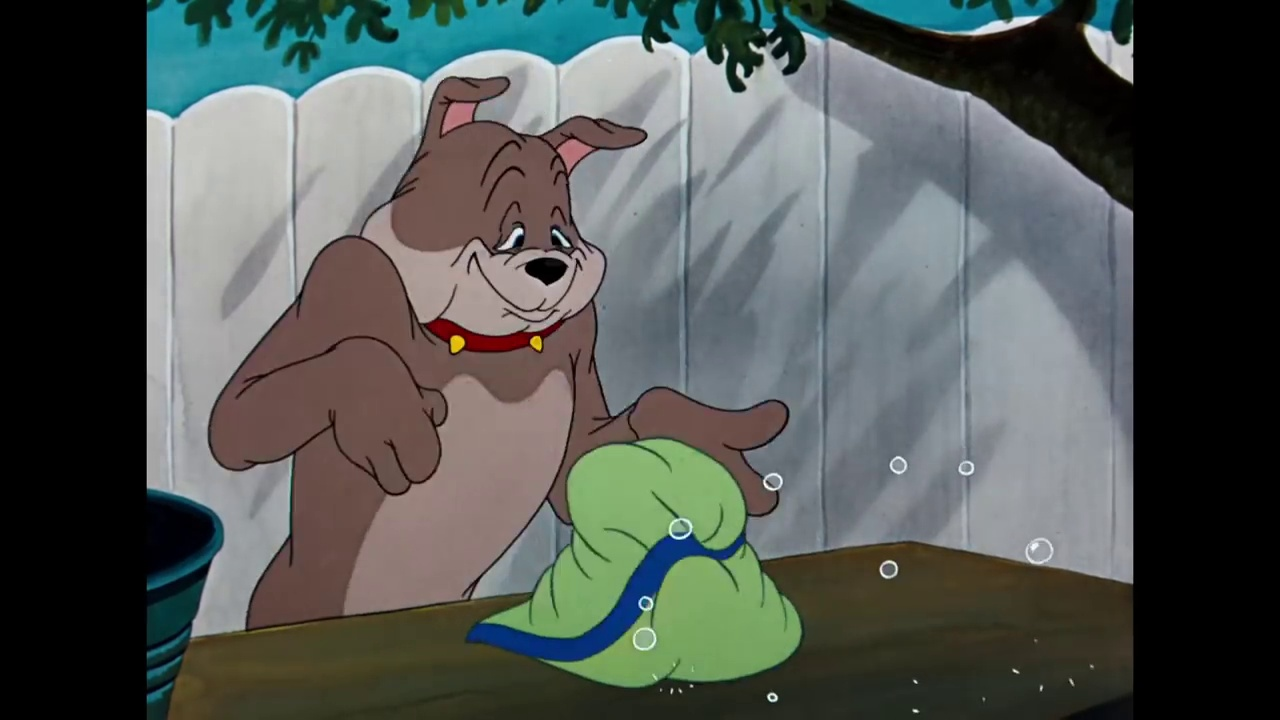spike: (349, 74, 650, 363)
